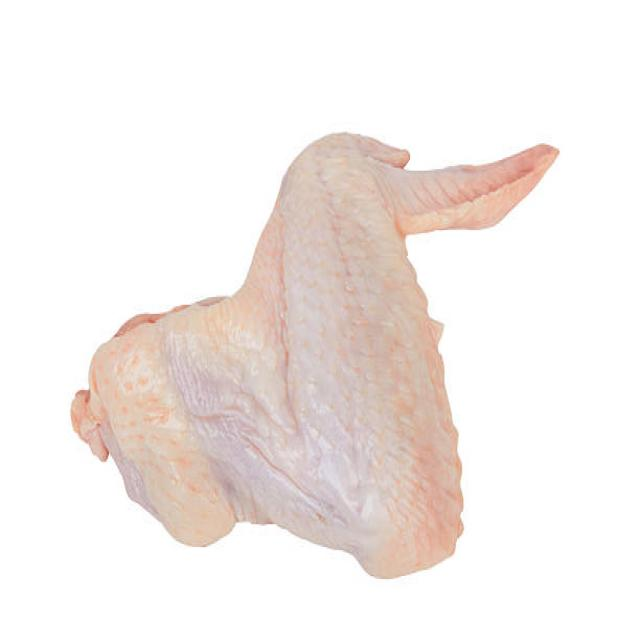Chicken: (61, 118, 568, 580)
